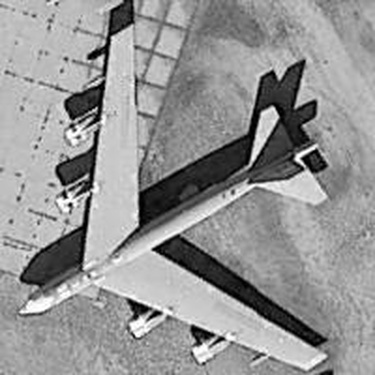airplane: (10, 12, 351, 372)
